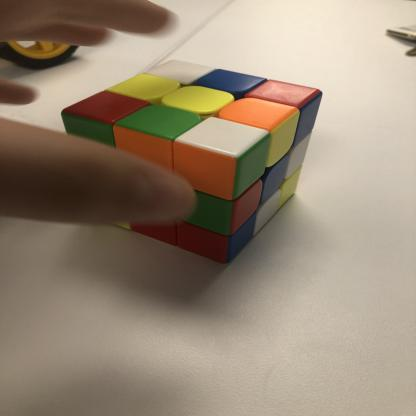UnsolvedCube: (66, 56, 341, 267)
